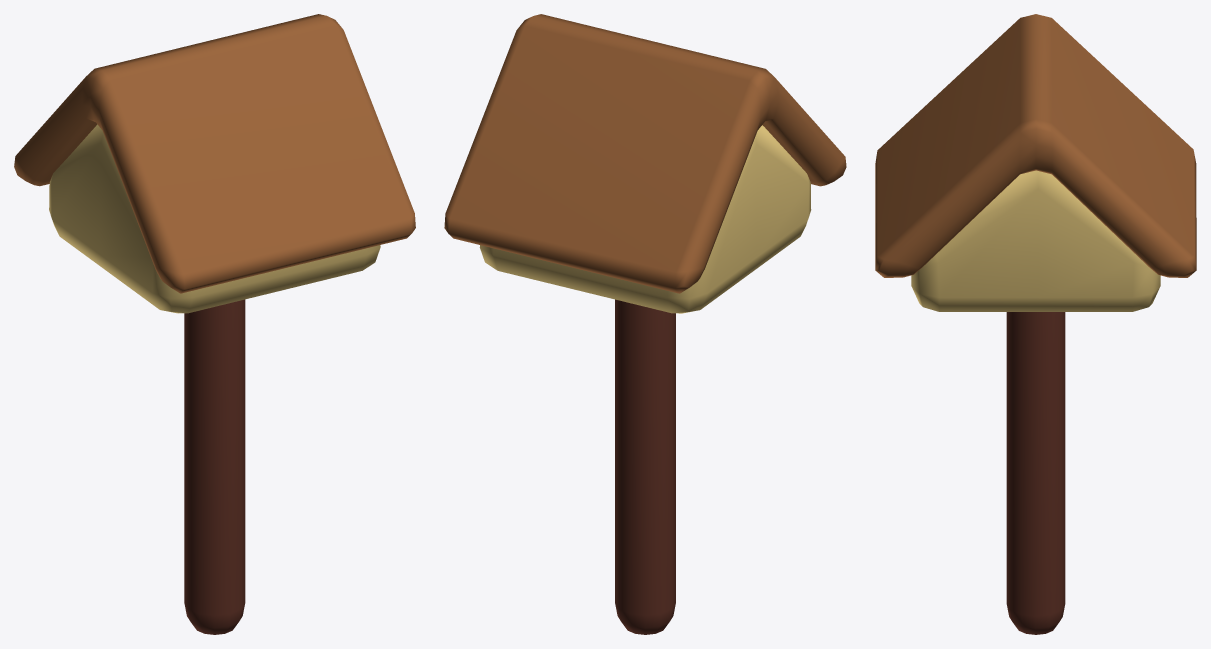
Rendered from LanternHouse.fbx.
The picture shows the model from 3 angles, left to right: view 1: azimuth 30°, elevation 25°; view 2: azimuth 150°, elevation 25°; view 3: azimuth 270°, elevation 25°; orthographic projection. The views are drawn at different scales.
Parts seen in each view (by area): view 1: pCube4; view 2: pCube4; view 3: pCube4.
Part boxes in pixels (x1,y1,x2,y2): pCube4: (14, 14, 415, 634); pCube4: (444, 14, 846, 634); pCube4: (875, 14, 1196, 634).
Size of the model in its own units: 1.1 by 2.48 by 1.29.
